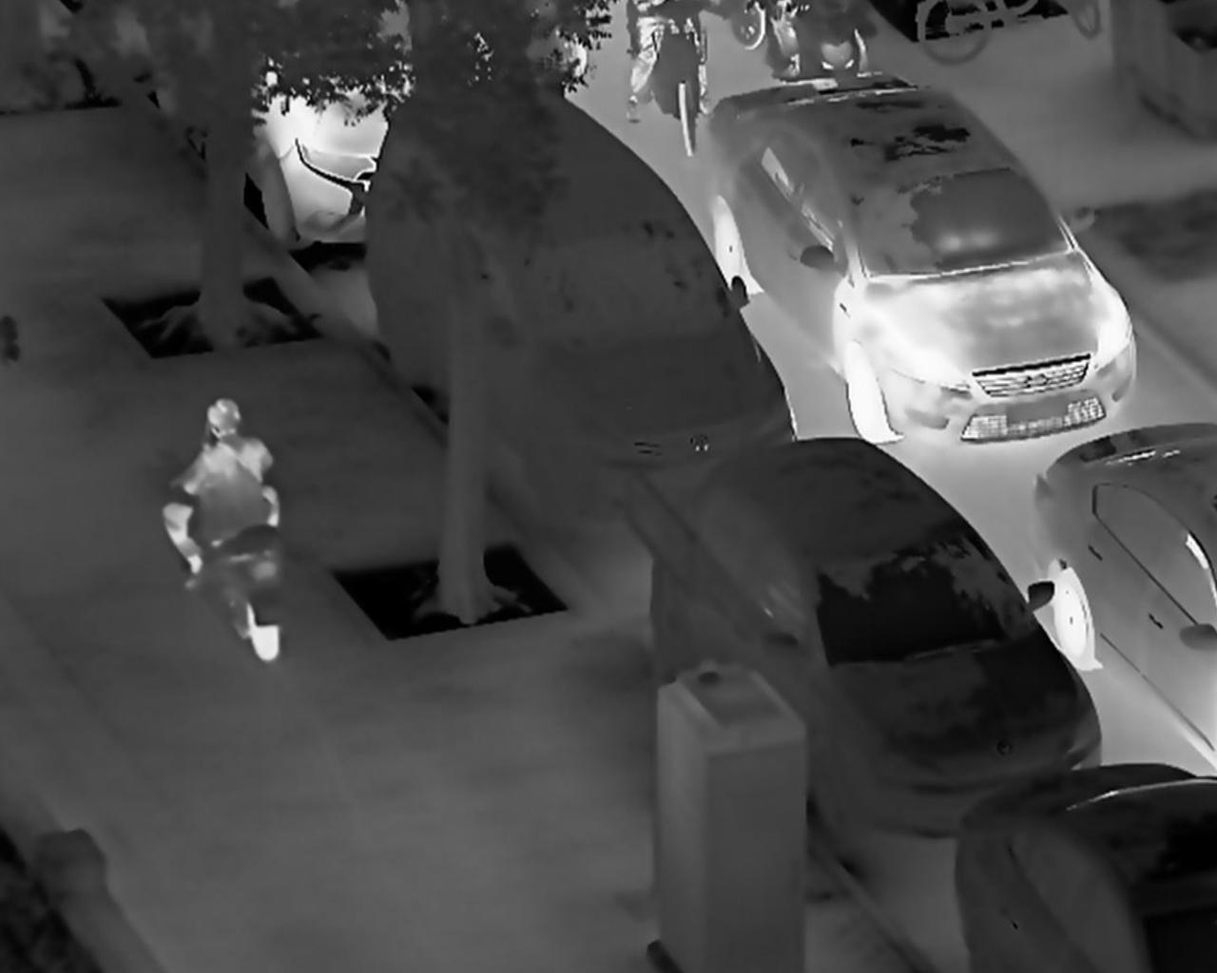person: (156, 391, 291, 615)
